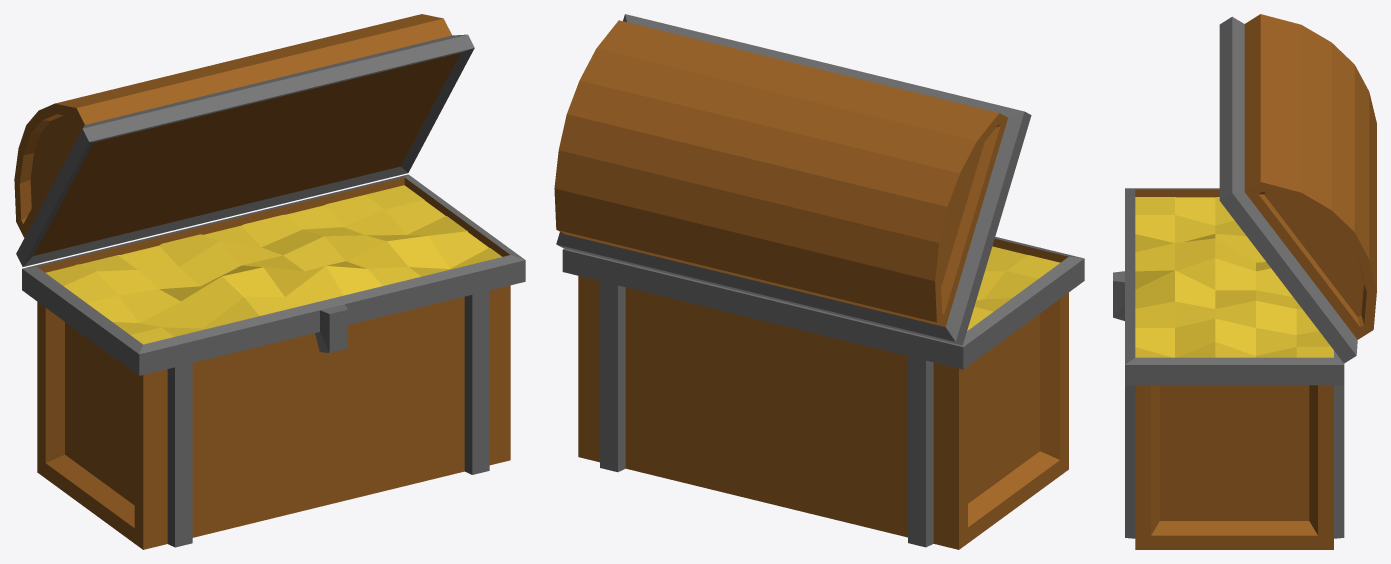
Rendered from Chest_Open_01.fbx.
3 views of the same model, side by side, from view 1: azimuth 30°, elevation 25°; view 2: azimuth 150°, elevation 25°; view 3: azimuth 270°, elevation 25° (orthographic). The views are drawn at different scales.
Visible parts, largest first — view 1: Chest_Open; view 2: Chest_Open; view 3: Chest_Open.
Part boxes in pixels (<box>): Chest_Open: <box>14,14,525,549</box>; Chest_Open: <box>554,14,1084,549</box>; Chest_Open: <box>1113,14,1376,549</box>.
Bounding box in the file's own units: 1.05 × 1.02 × 0.6643.
